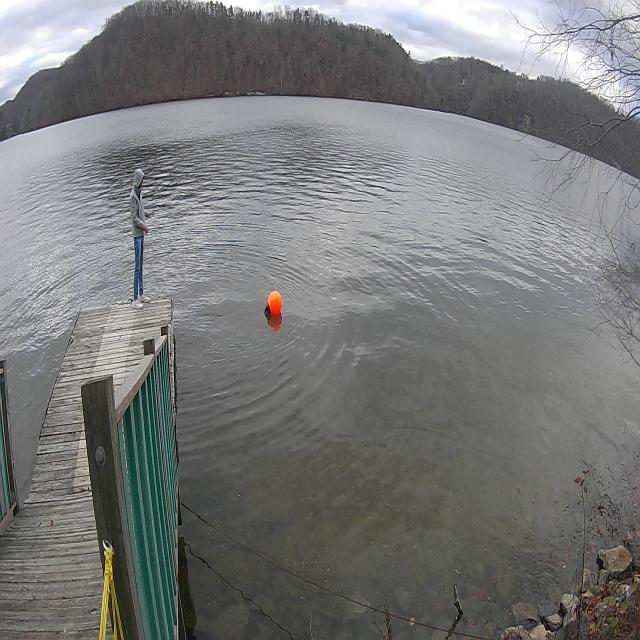Buoy: (264, 288, 285, 320)
